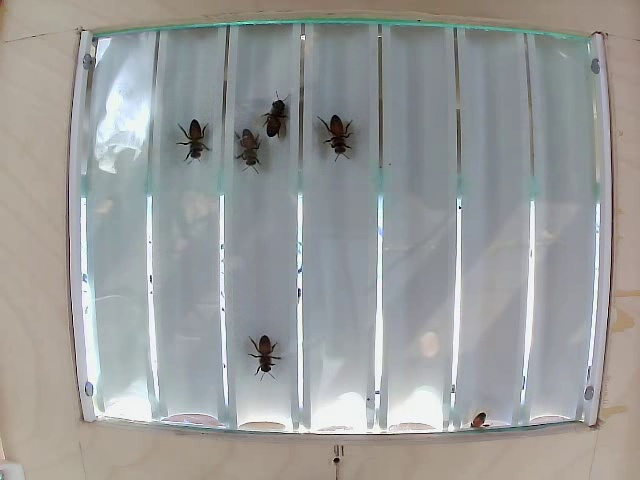bee: (248, 328, 292, 384), (320, 104, 352, 166), (260, 94, 293, 146), (175, 119, 216, 160), (233, 128, 265, 175)
